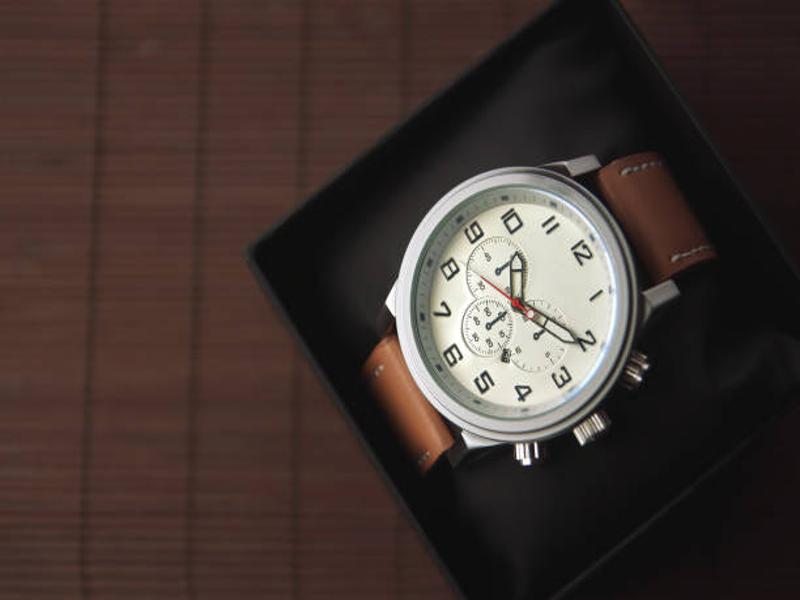watch: (357, 137, 718, 479)
